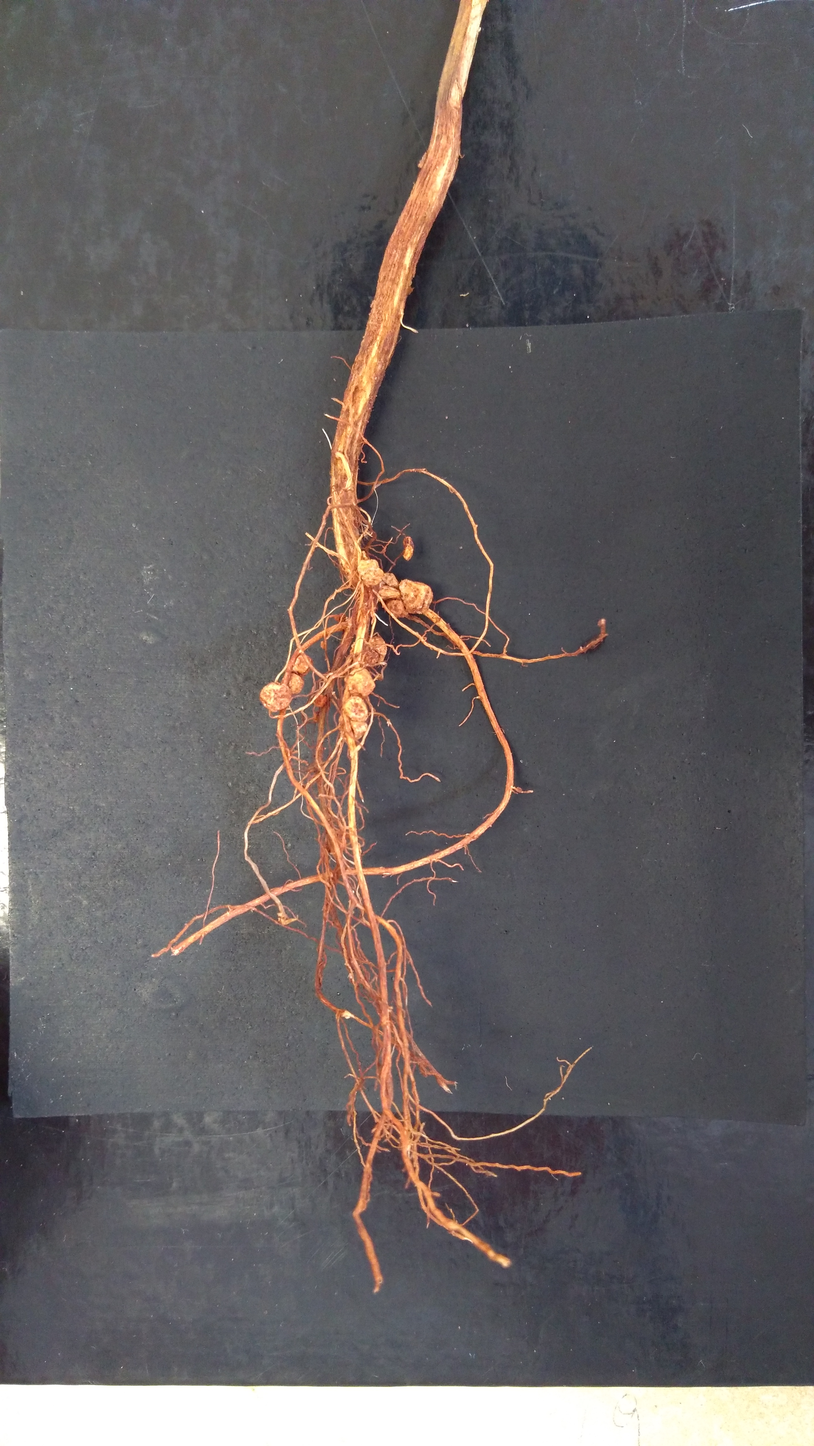nodule: (398, 578, 433, 615), (259, 682, 293, 711), (344, 667, 376, 697), (338, 714, 368, 742), (357, 558, 384, 586), (342, 696, 369, 721), (291, 652, 312, 676), (368, 636, 387, 662), (386, 598, 409, 618), (377, 584, 401, 600), (287, 673, 305, 694), (402, 536, 414, 560), (382, 571, 400, 587), (362, 650, 379, 665), (314, 693, 326, 706), (312, 711, 319, 723), (320, 641, 326, 649)
